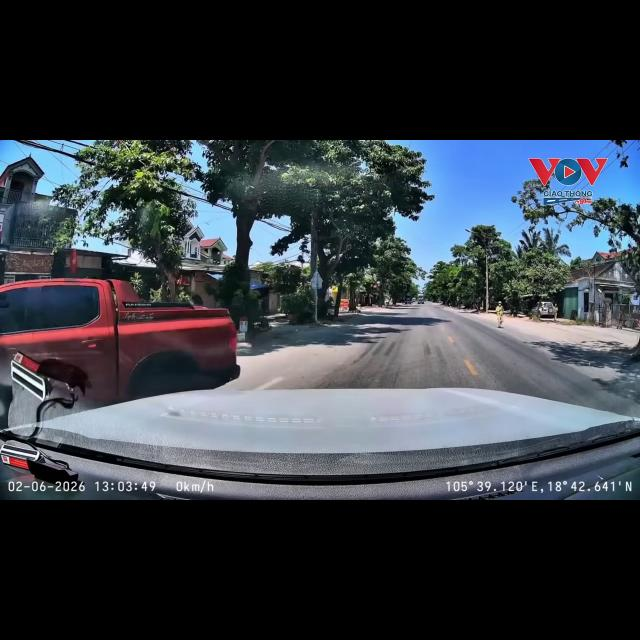car: (0, 279, 239, 403), (533, 301, 554, 317)
